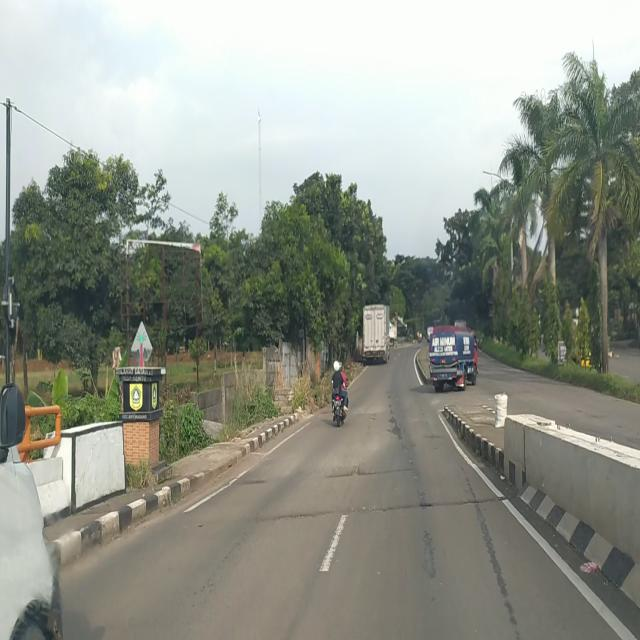Sewer Cover: (245, 497, 500, 528), (318, 469, 411, 482), (232, 481, 265, 487)
